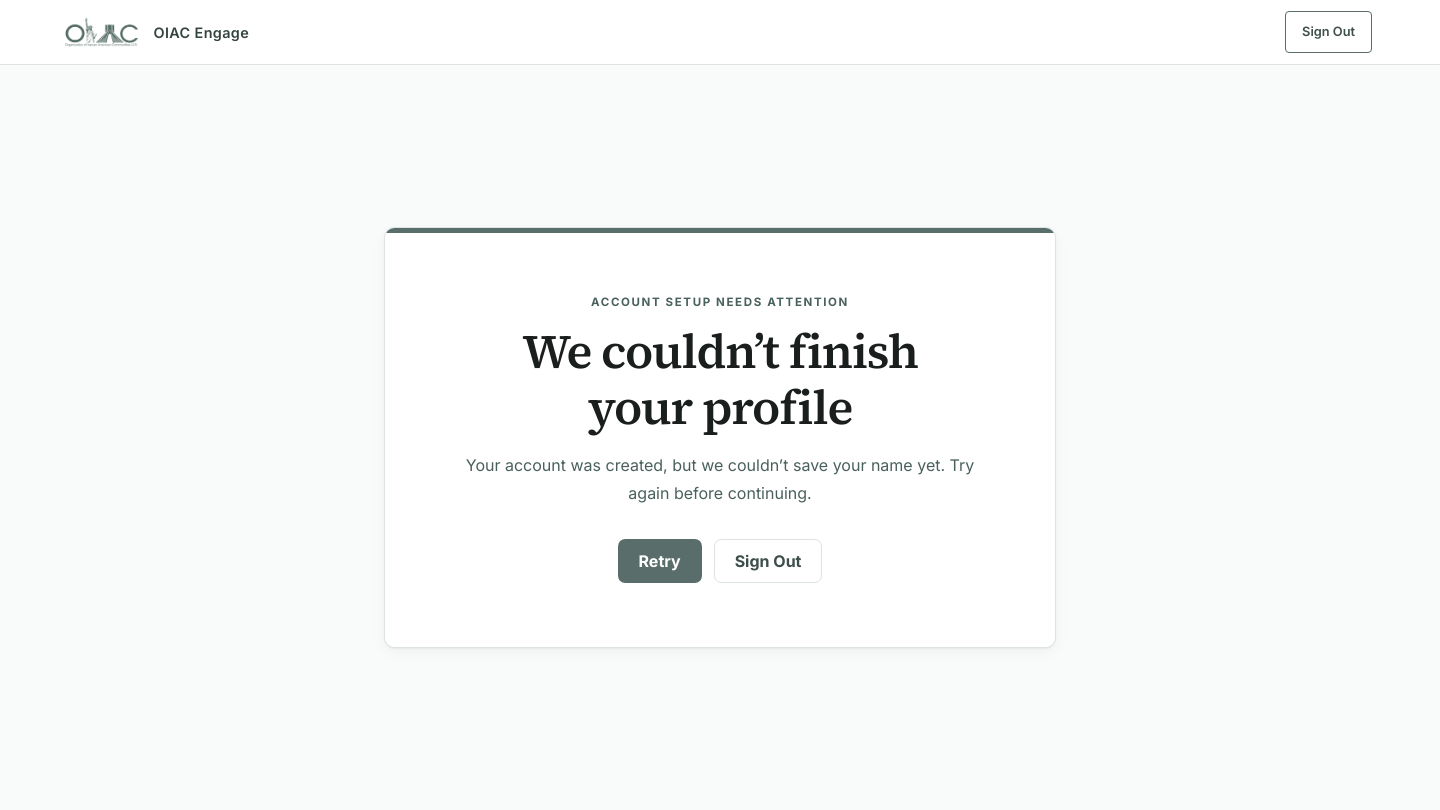
Test: keeps routing blocked after a profile update error and retries successfully
Check: the heading "We couldn’t finish your profile" is shown, box [522,318,918,440]
Check: the heading "Your profile is under review" is not shown
Click the button "Retry": (660, 561) [618,539,702,583]
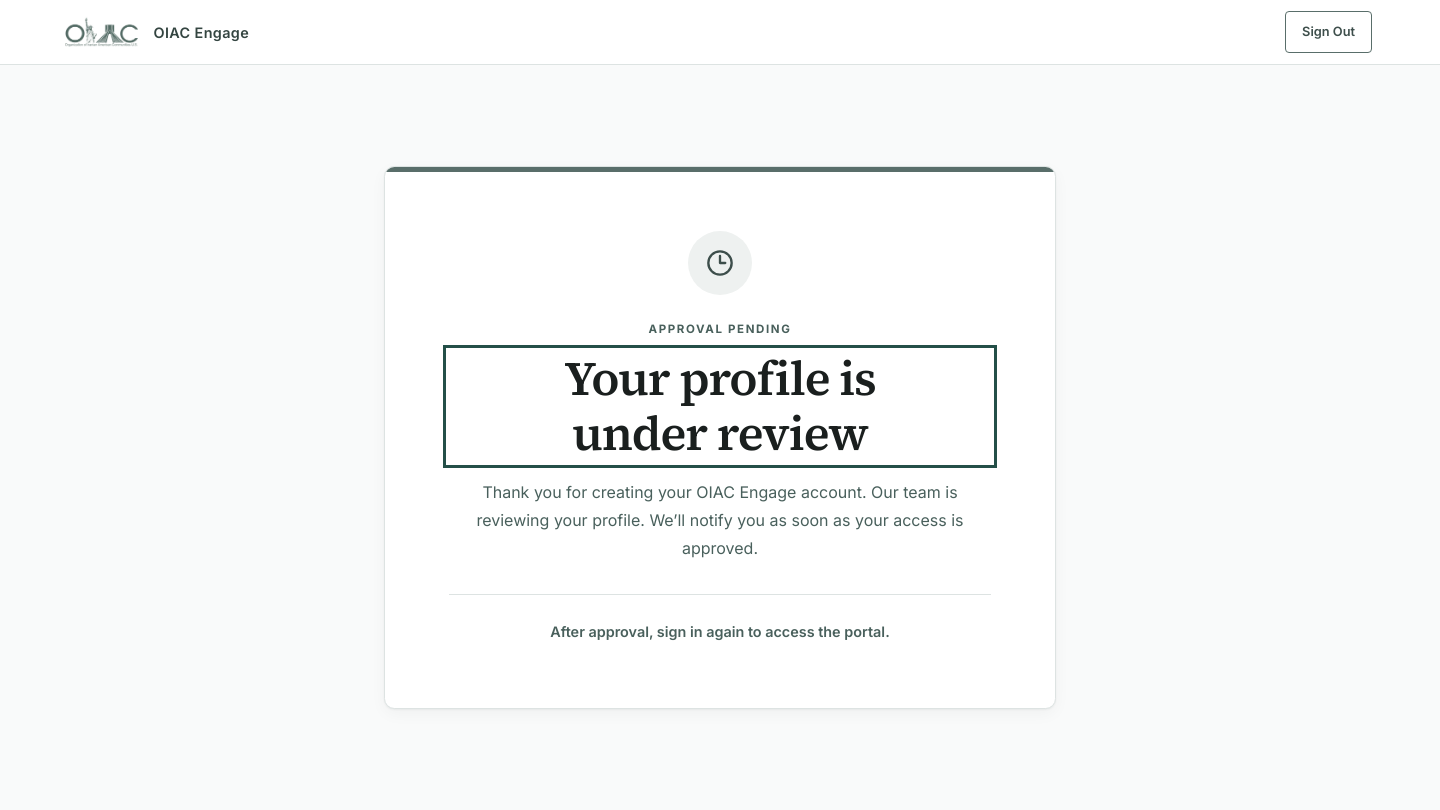
Check: the heading "Your profile is under review" is shown, box [564,345,876,466]
